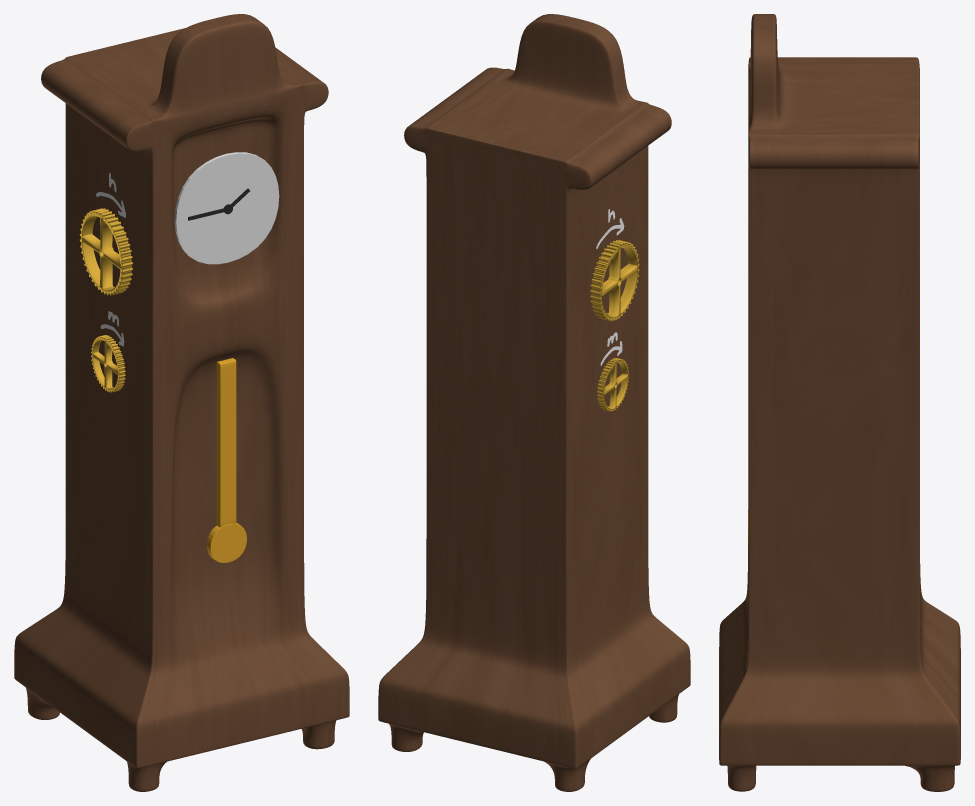
The model's file is clock.fbx.
3 renders of one model, left to right at view 1: azimuth 30°, elevation 25°; view 2: azimuth 150°, elevation 25°; view 3: azimuth 270°, elevation 25°, orthographic. The views are drawn at different scales.
Parts seen in each view (by area): view 1: Grandfather-Clock, Main Dial, Pendle, Gear.001, Gear.002; view 2: Grandfather-Clock, Gear.001, Gear.002; view 3: Grandfather-Clock.
Part boxes in pixels (x1,y1,x2,y2): Grandfather-Clock: [14, 14, 349, 791]; Main Dial: [174, 152, 279, 264]; Pendle: [207, 358, 246, 562]; Gear.001: [79, 208, 132, 295]; Gear.002: [91, 335, 125, 392]; Grandfather-Clock: [378, 14, 690, 791]; Gear.001: [590, 240, 639, 320]; Gear.002: [597, 358, 629, 411]; Grandfather-Clock: [719, 14, 960, 791].
Bounding box in the file's own units: 56.46 × 185 × 56.46.
5 materials, 2 textured.
